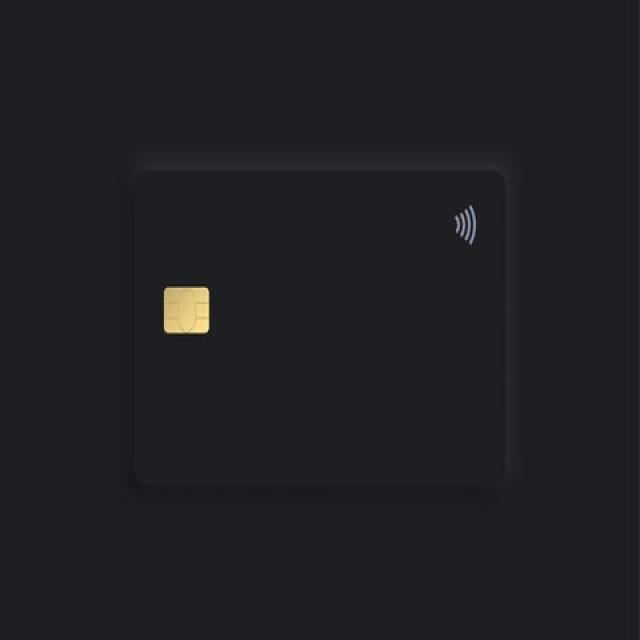payment_card: (128, 157, 512, 492)
